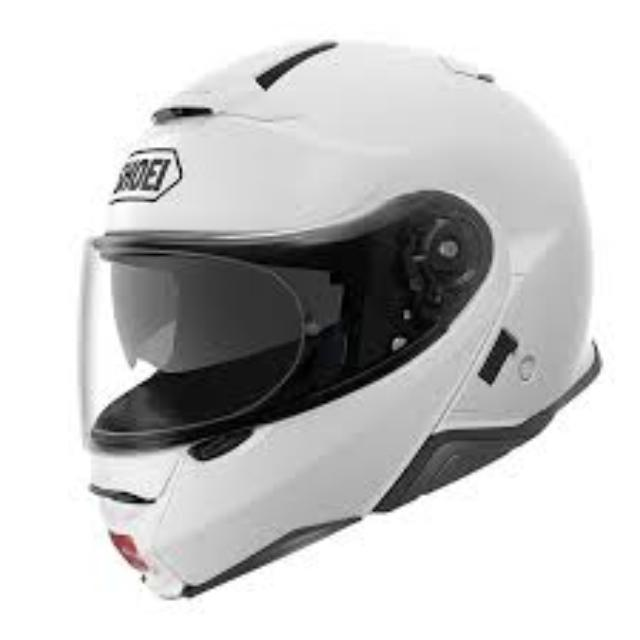motorcycle-helmets: (82, 43, 597, 597)
